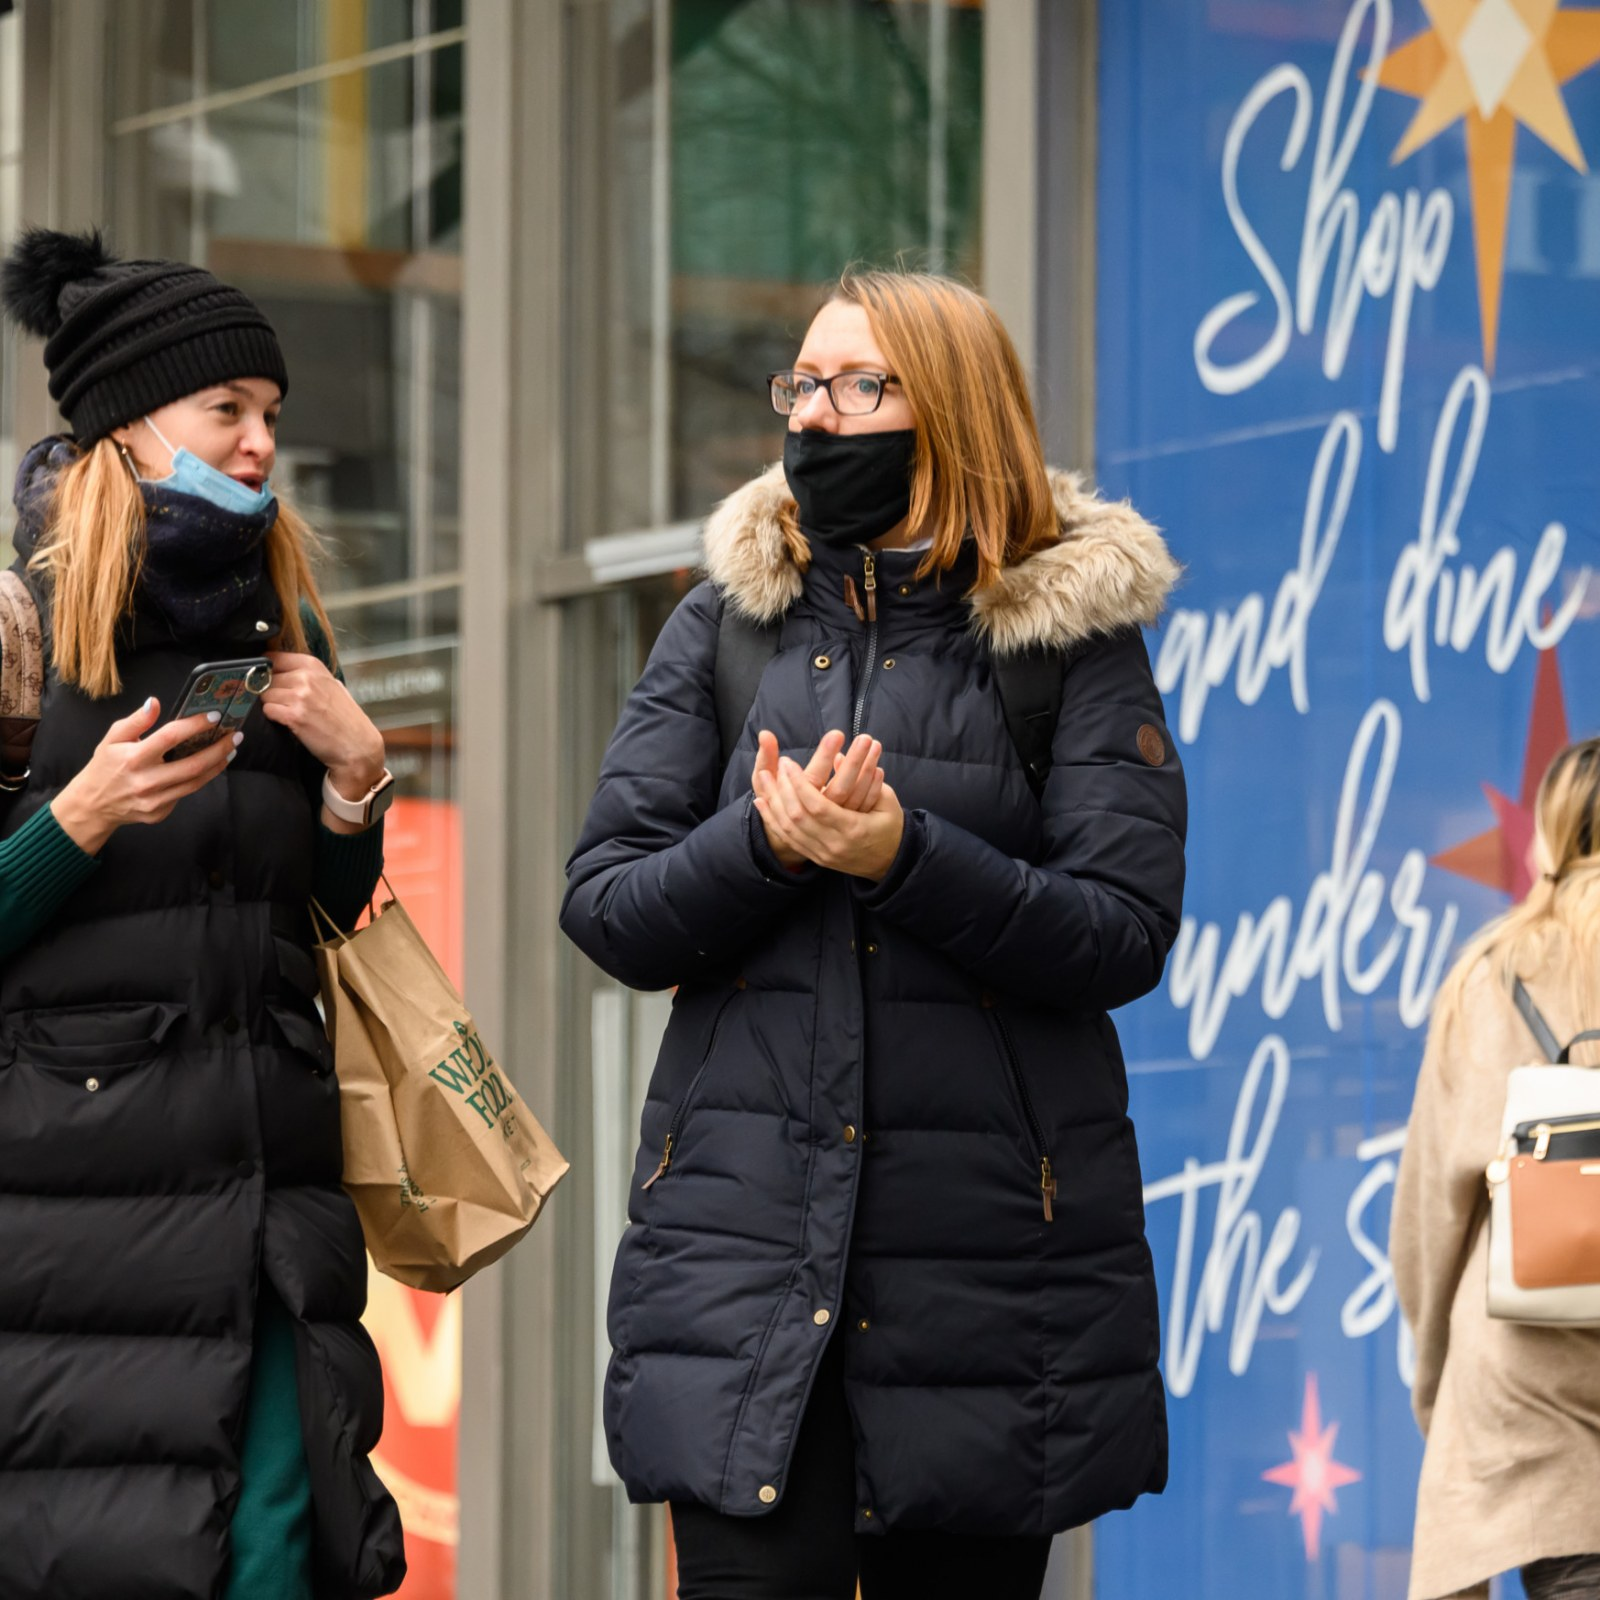with_incorrect_mask: (780, 348, 907, 543), (190, 377, 280, 514)
